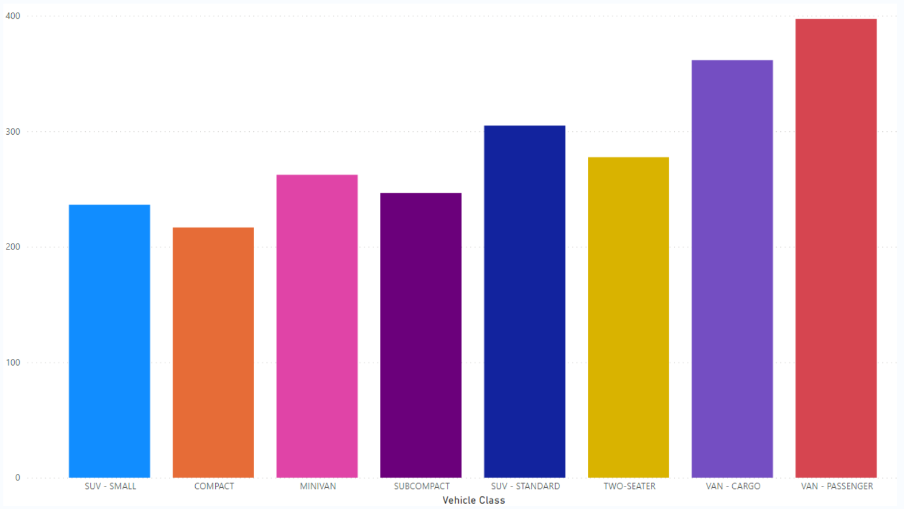

The page's visual inventory and layout, read from the dashboard file:
{"tool":"powerbi","page":{"name":"CLASS","canvas":[1280,720],"ordinal":2},"visuals":[{"type":"columnChart","fields":{"Category":["CO2 Emissions_Canada.Vehicle Class"],"Y":["CO2 Emissions_Canada.EmissionClass","CO2 Emissions_Canada.EmissionClass2","CO2 Emissions_Canada.EmissionClass3","CO2 Emissions_Canada.EmissionClass6","CO2 Emissions_Canada.EmissionClass7","CO2 Emissions_Canada.EmissionClass8","CO2 Emissions_Canada.EmissionClass5","CO2 Emissions_Canada.EmissionClass9","CO2 Emissions_Canada.EmissionClass4"]},"box":[9.7,0,1270.3,719.8],"z":0}]}

Visuals, with their boxes in screenshot pixels (x1, y1, x2, y2), scaled from the page's 1280x720 canvas onto the 904x509 screenshot:
columnChart - CO2 Emissions_Canada.Vehicle Class x CO2 Emissions_Canada.EmissionClass: [7,0,903,508]
